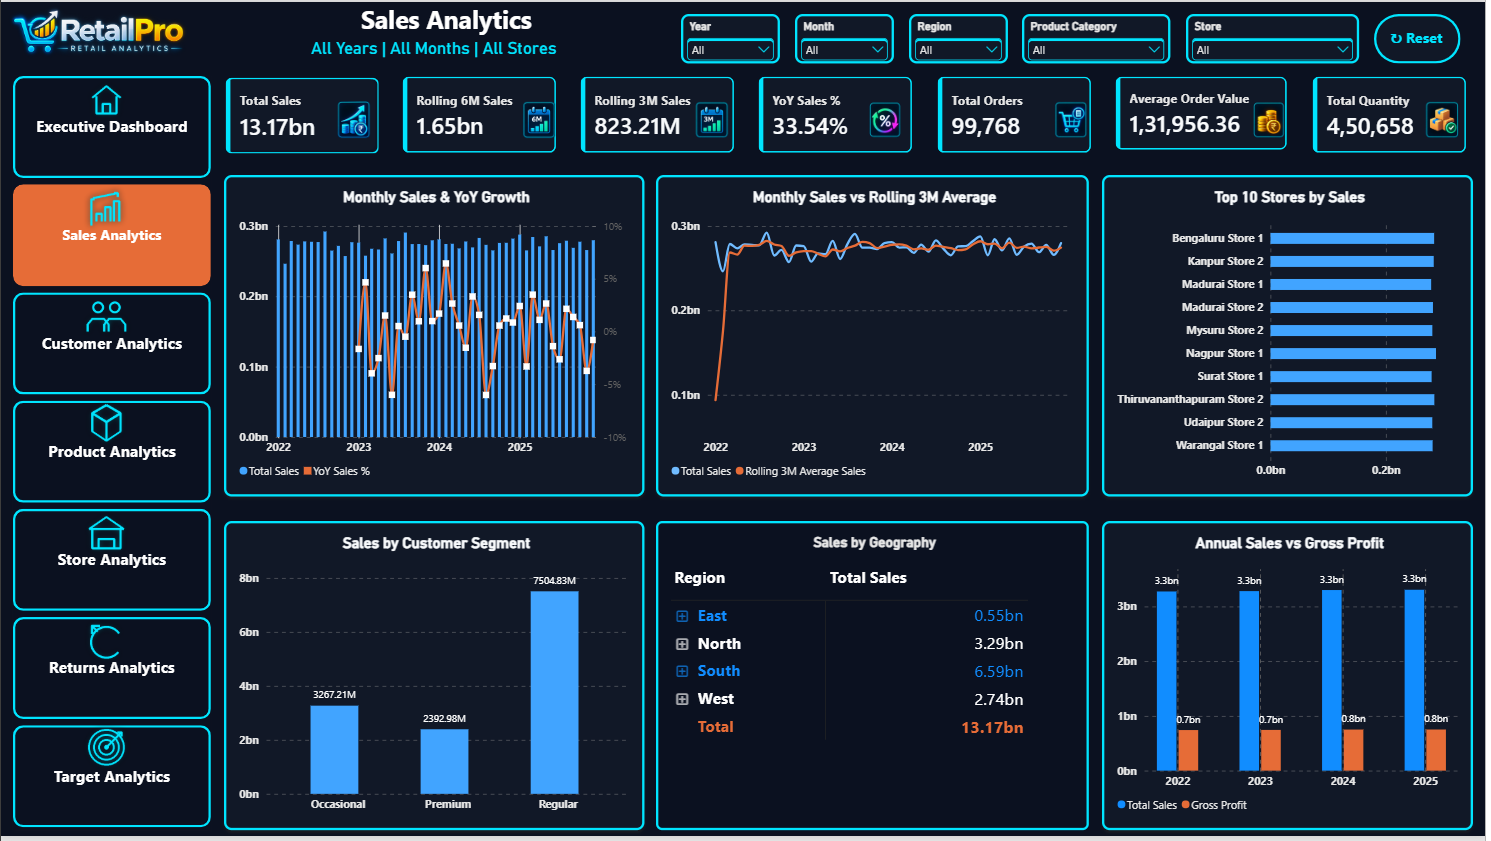

Layout of this report page (visuals, bound fields, positions):
{"tool":"powerbi","page":{"name":"Sales Analytics","canvas":[1920,1080],"ordinal":1},"visuals":[{"type":"cardVisual","fields":{"Data":["All_Measures.Rolling 3M Sales"]},"box":[749.3,96,200,100],"z":0},{"type":"cardVisual","fields":{"Data":["All_Measures.YoY Sales %"]},"box":[980,96,200,100],"z":1000},{"type":"cardVisual","fields":{"Data":["All_Measures.Total Orders"]},"box":[1210.7,96,200,100],"z":2000},{"type":"cardVisual","fields":{"Data":["All_Measures.Average Order Value"]},"box":[1441.3,96,224,96],"z":3000},{"type":"cardVisual","fields":{"Data":["All_Measures.Total Quantity"]},"box":[1696,96,200,100],"z":4000},{"type":"lineClusteredColumnComboChart","title":"Monthly Sales & YoY Growth","fields":{"Category":["DimDate.MonthStart"],"Y":["All_Measures.Total Sales"],"Y2":["All_Measures.YoY Sales %"]},"box":[288,224,544,416],"z":5000},{"type":"lineChart","title":"Monthly Sales vs Rolling 3M Average","fields":{"Category":["DimDate.MonthStart"],"Y":["All_Measures.Total Sales","All_Measures.Rolling 3M Average Sales"]},"box":[848,224,560,416],"z":6000},{"type":"clusteredBarChart","title":"Top 10 Stores by Sales","fields":{"Category":["DimStore.StoreName"],"Y":["All_Measures.Total Sales"]},"box":[1424,224,480,416],"z":7000},{"type":"clusteredColumnChart","title":"Sales by Customer Segment","fields":{"Category":["DimCustomer.CustomerSegment"],"Y":["All_Measures.Customer Sales"]},"box":[288,672,544,400],"z":8000},{"type":"pivotTable","title":"Sales by Geography","fields":{"Rows":["DimStore.Geography Hierarchy.Region","DimStore.Geography Hierarchy.State","DimStore.Geography Hierarchy.City"],"Values":["All_Measures.Total Sales"]},"box":[848,672,560,400],"z":9000},{"type":"clusteredColumnChart","title":"Annual Sales vs Gross Profit","fields":{"Category":["DimDate.Year"],"Y":["All_Measures.Total Sales","All_Measures.Gross Profit"]},"box":[1424,672,480,400],"z":10000},{"type":"slicer","fields":{"Values":["DimDate.Year"]},"box":[880,16,128,64],"z":11000},{"type":"slicer","fields":{"Values":["DimDate.MonthName"]},"box":[1027.2,16,128,64],"z":12000},{"type":"slicer","fields":{"Values":["DimStore.Region"]},"box":[1174.4,16,128,64],"z":13000},{"type":"slicer","fields":{"Values":["DimStore.StoreName"]},"box":[1532.8,16,224,64],"z":14000},{"type":"slicer","fields":{"Values":["DimProduct.Category"]},"box":[1321.6,16,192,64],"z":15000},{"type":"image","box":[0,0,256,80],"z":16000},{"type":"textbox","box":[352,48,416,32],"z":17000},{"type":"actionButton","box":[1776,16,112,64],"z":18000},{"type":"textbox","box":[432,0,288,64],"z":19000},{"type":"pageNavigator","box":[16,96,256,976],"z":20000},{"type":"image","box":[96,95,80,65],"z":21000},{"type":"image","box":[96,238,80,65],"z":22000},{"type":"image","box":[96,375,80,65],"z":23000},{"type":"image","box":[96,512,80,65],"z":24000},{"type":"image","box":[96,656,80,65],"z":25000},{"type":"image","box":[96,796,80,65],"z":26000},{"type":"image","box":[96,932,80,65],"z":27000},{"type":"cardVisual","fields":{"Data":["All_Measures.Rolling 6M Sales"]},"box":[518.7,96,200,100],"z":28000},{"type":"cardVisual","fields":{"Data":["All_Measures.Total Sales"]},"box":[288,96,200,100],"z":29000},{"type":"image","box":[416,128,80,48],"z":30000},{"type":"image","box":[656,128,80,48],"z":31000},{"type":"image","box":[880,128,80,48],"z":32000},{"type":"image","box":[1104,128,80,48],"z":33000},{"type":"image","box":[1344,128,80,48],"z":34000},{"type":"image","box":[1600,128,80,48],"z":35000},{"type":"image","box":[1824,128,80,48],"z":36000}]}

Visuals, with their boxes in screenshot pixels (x1, y1, x2, y2), scaled from the page's 1920x1080 canvas onto the 1491x841 screenshot:
cardVisual - All_Measures.Rolling 3M Sales: BBox(582, 75, 737, 153)
cardVisual - All_Measures.YoY Sales %: BBox(761, 75, 916, 153)
cardVisual - All_Measures.Total Orders: BBox(940, 75, 1095, 153)
cardVisual - All_Measures.Average Order Value: BBox(1119, 75, 1293, 150)
cardVisual - All_Measures.Total Quantity: BBox(1317, 75, 1472, 153)
"Monthly Sales & YoY Growth" lineClusteredColumnComboChart: BBox(224, 174, 646, 498)
"Monthly Sales vs Rolling 3M Average" lineChart: BBox(659, 174, 1093, 498)
"Top 10 Stores by Sales" clusteredBarChart: BBox(1106, 174, 1479, 498)
"Sales by Customer Segment" clusteredColumnChart: BBox(224, 523, 646, 835)
"Sales by Geography" pivotTable: BBox(659, 523, 1093, 835)
"Annual Sales vs Gross Profit" clusteredColumnChart: BBox(1106, 523, 1479, 835)
slicer - DimDate.Year: BBox(683, 12, 783, 62)
slicer - DimDate.MonthName: BBox(798, 12, 897, 62)
slicer - DimStore.Region: BBox(912, 12, 1011, 62)
slicer - DimStore.StoreName: BBox(1190, 12, 1364, 62)
slicer - DimProduct.Category: BBox(1026, 12, 1175, 62)
image: BBox(0, 0, 199, 62)
textbox: BBox(273, 37, 596, 62)
actionButton: BBox(1379, 12, 1466, 62)
textbox: BBox(335, 0, 559, 50)
pageNavigator: BBox(12, 75, 211, 835)
image: BBox(75, 74, 137, 125)
image: BBox(75, 185, 137, 236)
image: BBox(75, 292, 137, 343)
image: BBox(75, 399, 137, 449)
image: BBox(75, 511, 137, 561)
image: BBox(75, 620, 137, 670)
image: BBox(75, 726, 137, 776)
cardVisual - All_Measures.Rolling 6M Sales: BBox(403, 75, 558, 153)
cardVisual - All_Measures.Total Sales: BBox(224, 75, 379, 153)
image: BBox(323, 100, 385, 137)
image: BBox(509, 100, 572, 137)
image: BBox(683, 100, 746, 137)
image: BBox(857, 100, 919, 137)
image: BBox(1044, 100, 1106, 137)
image: BBox(1242, 100, 1305, 137)
image: BBox(1416, 100, 1479, 137)
